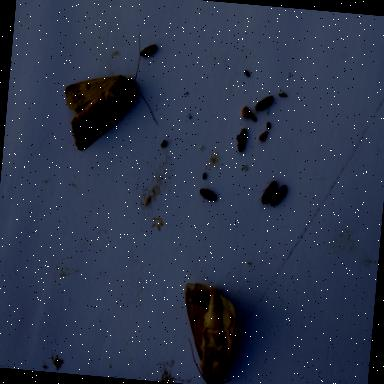abw: (58, 22, 167, 158), (175, 280, 240, 384)
